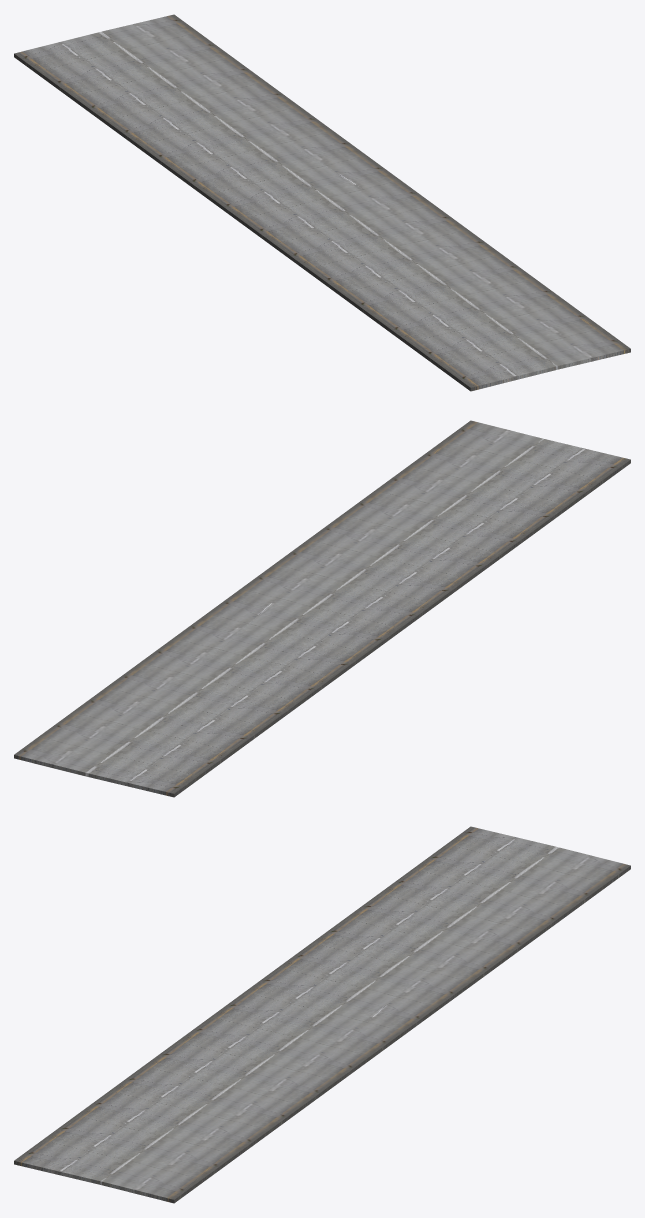
Rendered from Asset_Road00.fbx.
3 views of the same model, one above another, from view 1: azimuth 30°, elevation 25°; view 2: azimuth 150°, elevation 25°; view 3: azimuth 330°, elevation 25° (orthographic).
Visible parts, largest first — view 1: pPlane86; view 2: pPlane86; view 3: pPlane86.
Boxes of the visible parts, <box> form: pPlane86: <box>14,14,630,391</box>; pPlane86: <box>14,420,630,797</box>; pPlane86: <box>14,826,630,1203</box>.
Bounding box in the file's own units: 21.79 × 0.4827 × 108.
